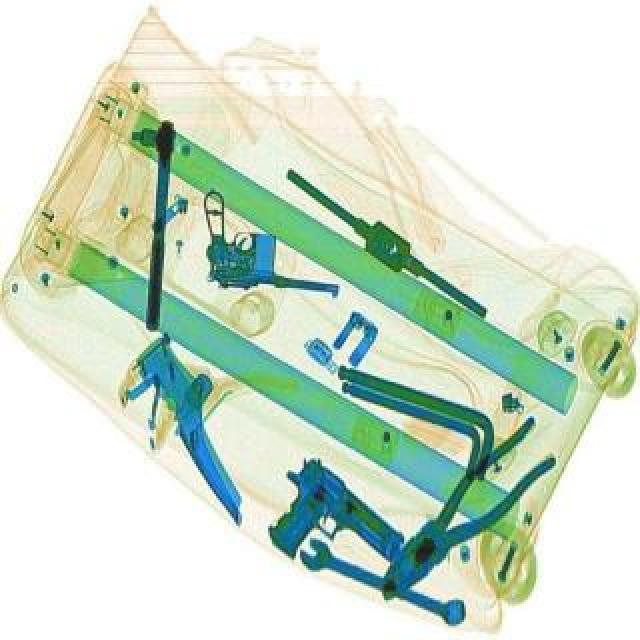gun: (240, 454, 412, 608), (194, 192, 348, 304)
scissors: (292, 536, 472, 636)
wrench: (356, 418, 572, 618)
